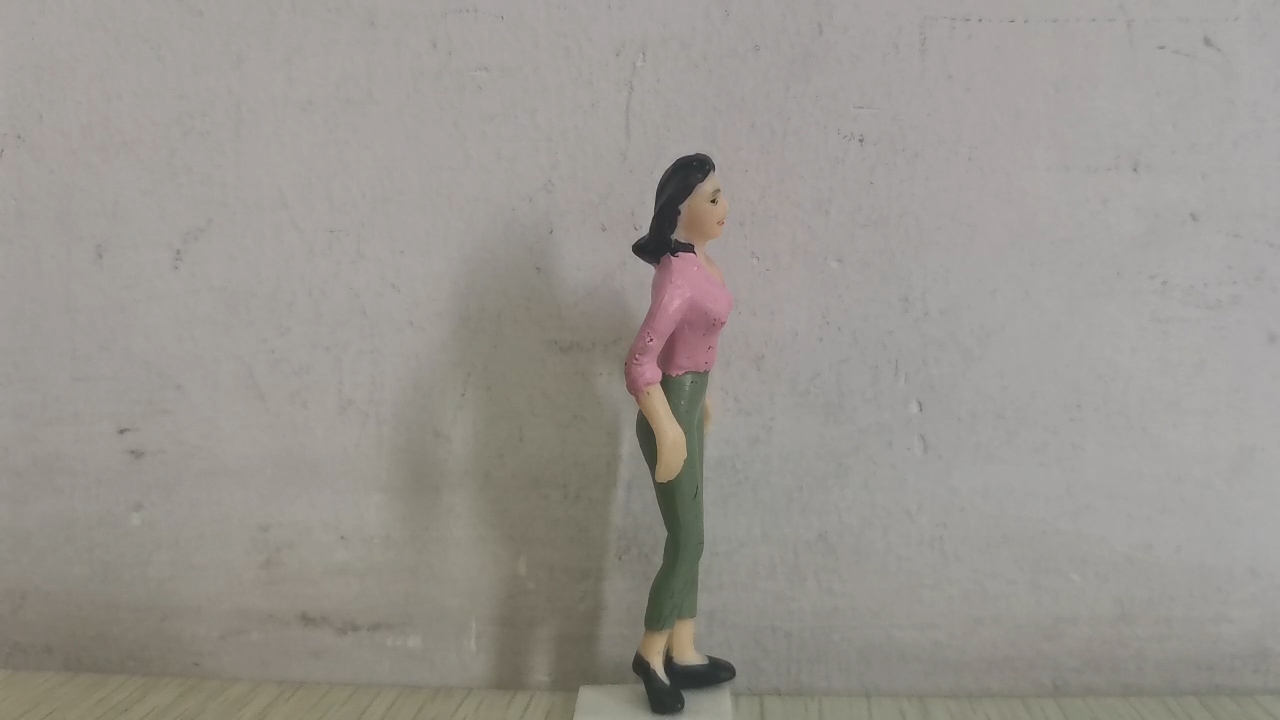person: (622, 152, 738, 716)
